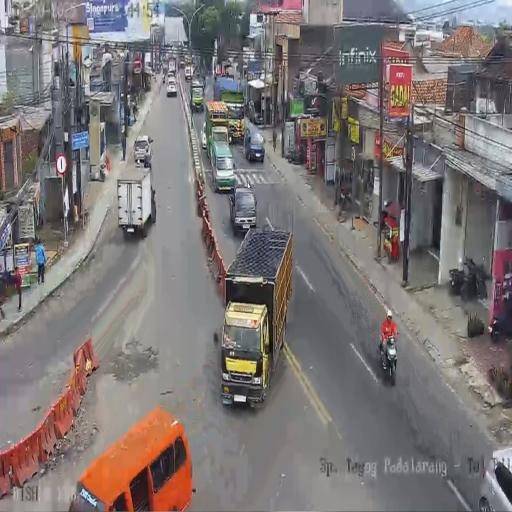3: (219, 219, 291, 407), (118, 164, 156, 239), (205, 100, 230, 153), (191, 79, 204, 111), (144, 51, 152, 74), (184, 65, 193, 81), (168, 58, 176, 76), (185, 55, 192, 65), (180, 59, 185, 68)
car: (69, 407, 193, 509), (228, 186, 257, 234), (242, 121, 265, 162), (134, 135, 152, 164), (166, 76, 177, 98), (200, 122, 207, 149), (162, 70, 166, 84)
truck: (490, 294, 512, 342), (379, 328, 397, 379)
